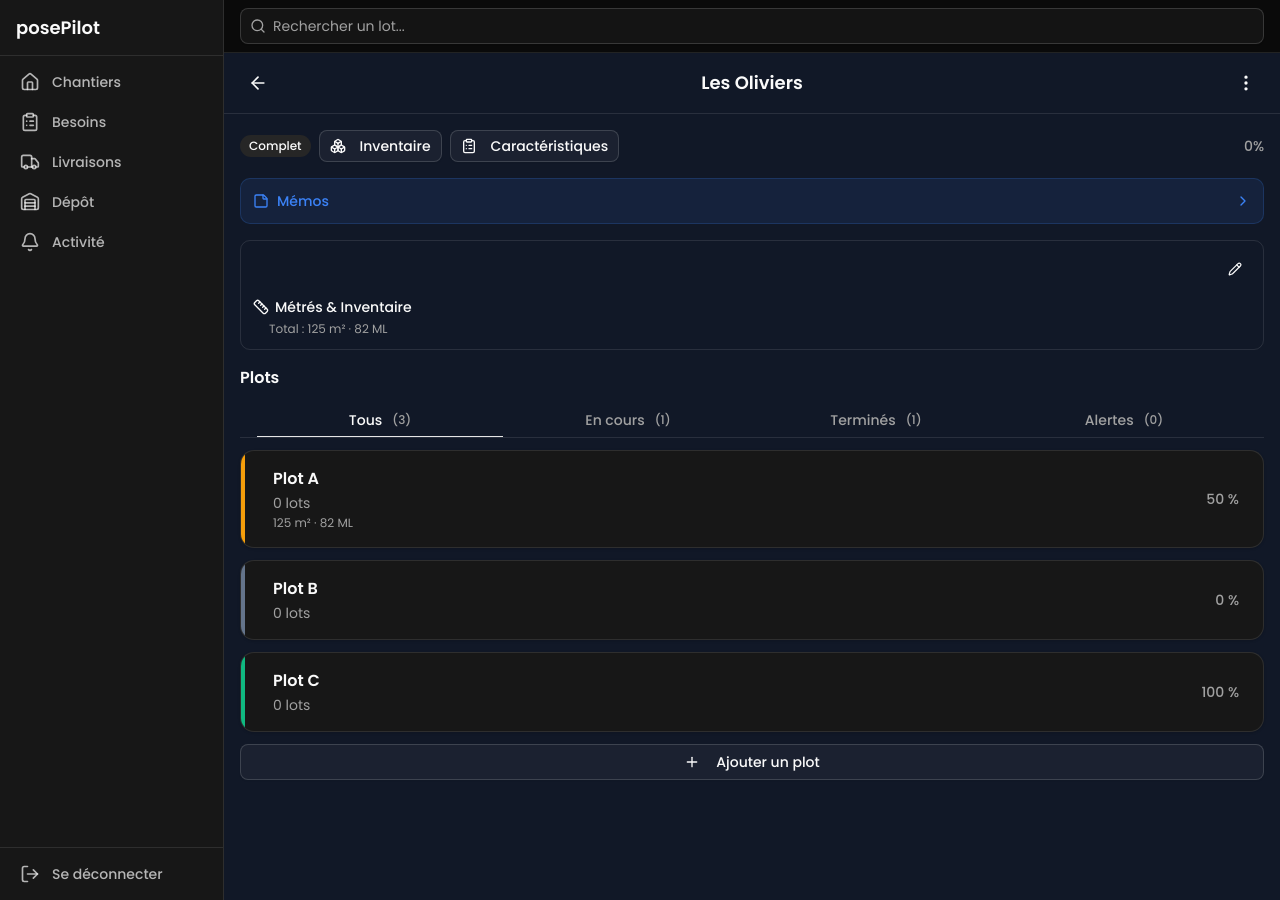
Test: ChantierIndexPage — GridFilterTabs on plots › "En cours" filter shows only partially completed plots
Expected: the element showing "Tous (3) En cours (1) Terminés (1) Alertes (0)" is shown, [240,402,1264,438]
What coordinates should you click on to do the following:
click the tab "En cours (1)"
I would click on:
 (628, 420)
Its box is [504,406,752,434].
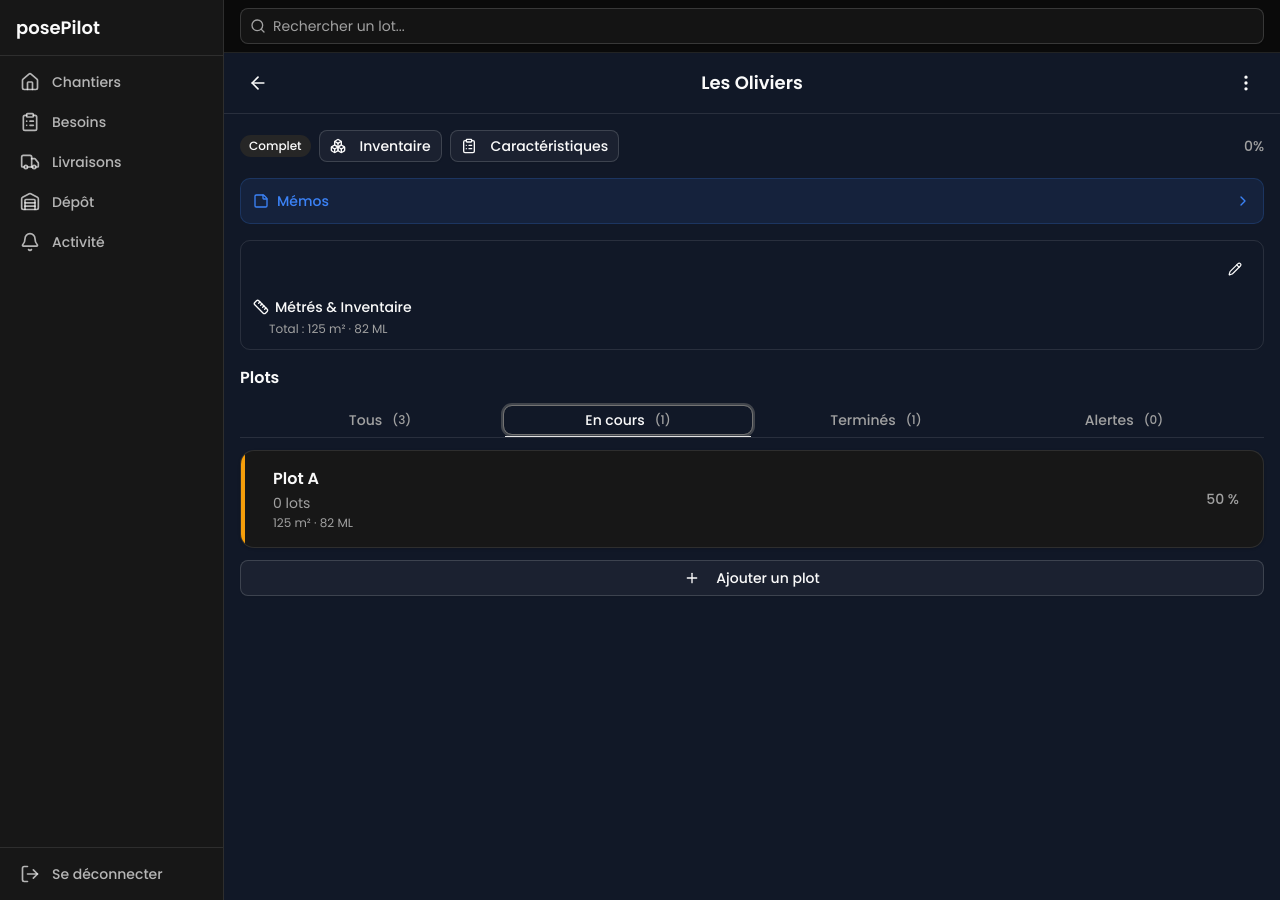
Expected: the text "Plot A" is shown, [273,467,319,491]
Expected: the text "Plot B" is gone
Expected: the text "Plot C" is gone
